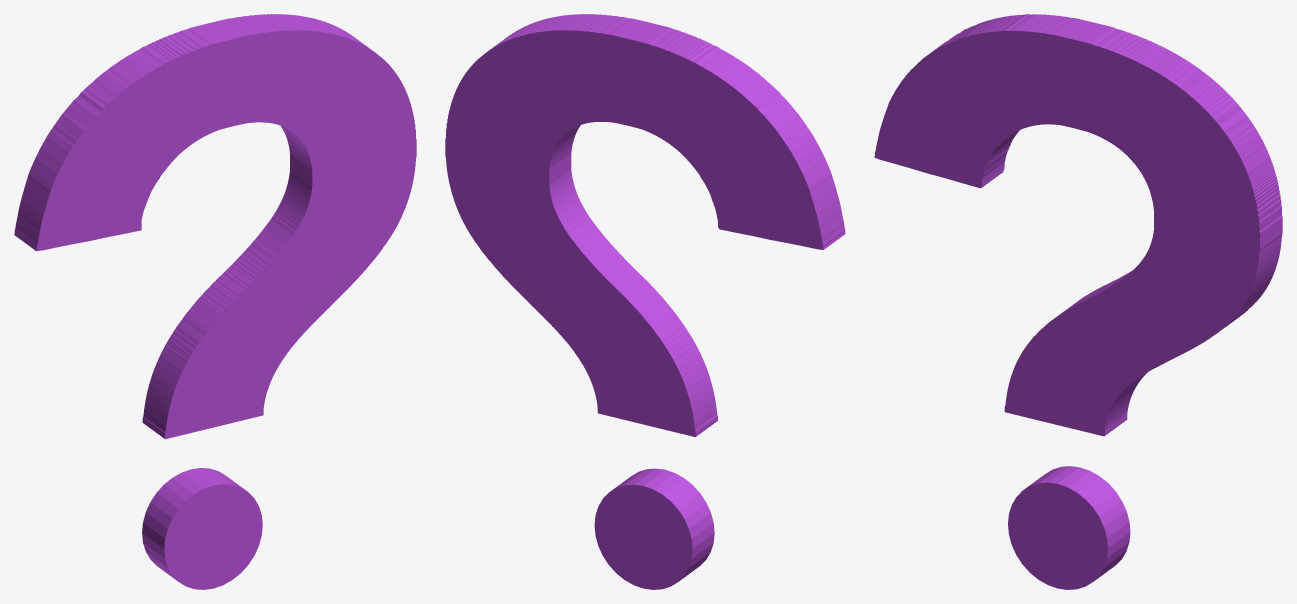
The picture shows the model from 3 angles, left to right: view 1: azimuth 30°, elevation 25°; view 2: azimuth 150°, elevation 25°; view 3: azimuth 330°, elevation 25°; orthographic projection.
Parts seen in each view (by area): view 1: question mark; view 2: question mark; view 3: question mark.
Boxes of the visible parts, x1,y1,x2,y2 form: question mark: [14, 14, 416, 589]; question mark: [445, 14, 845, 589]; question mark: [874, 14, 1282, 589].
Bounding box in the file's own units: 8.44 × 11.6 × 0.9292.
